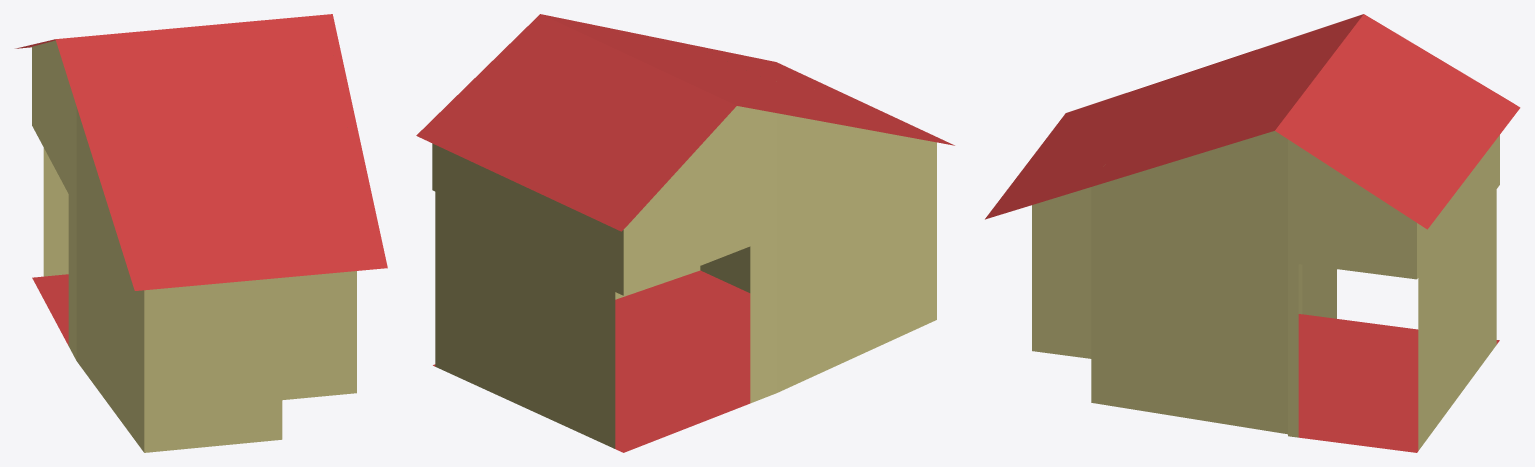
3 views of the same model, side by side, from view 1: azimuth 30°, elevation 25°; view 2: azimuth 150°, elevation 25°; view 3: azimuth 270°, elevation 25° (orthographic). The views are drawn at different scales.
Bounding box in the file's own units: 18.38 × 24.12 × 15.13.
